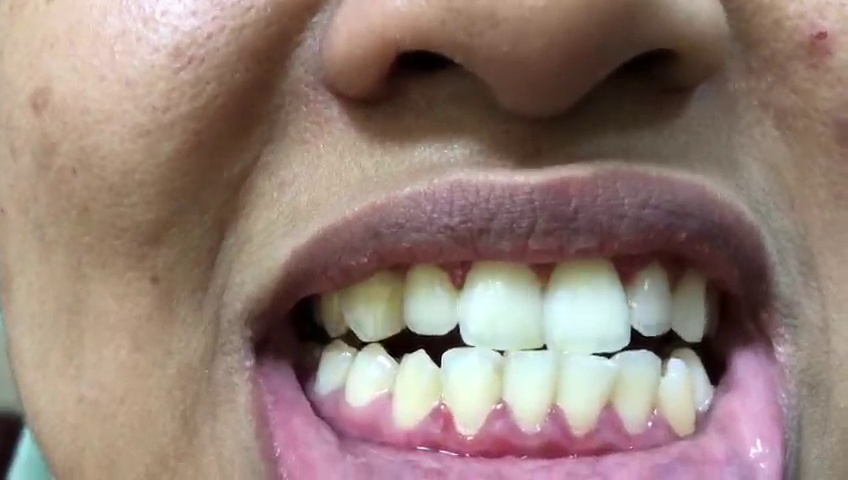1st Premolar: (347, 342, 396, 406), (673, 346, 716, 415)
2nd Premolar: (316, 341, 356, 399)
Canine: (337, 266, 403, 341), (393, 347, 441, 428), (674, 259, 710, 341), (659, 359, 697, 436)
Central Incisor: (544, 256, 630, 353), (460, 256, 545, 351), (562, 350, 620, 438), (502, 349, 560, 436)
Lateral Incisor: (444, 347, 498, 435), (403, 261, 461, 334), (628, 260, 676, 337), (616, 353, 660, 436)
